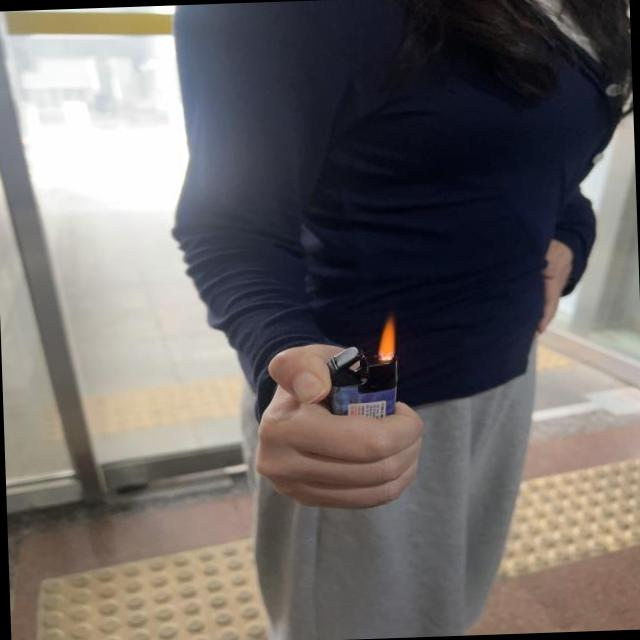Fire: (374, 319, 398, 358)
